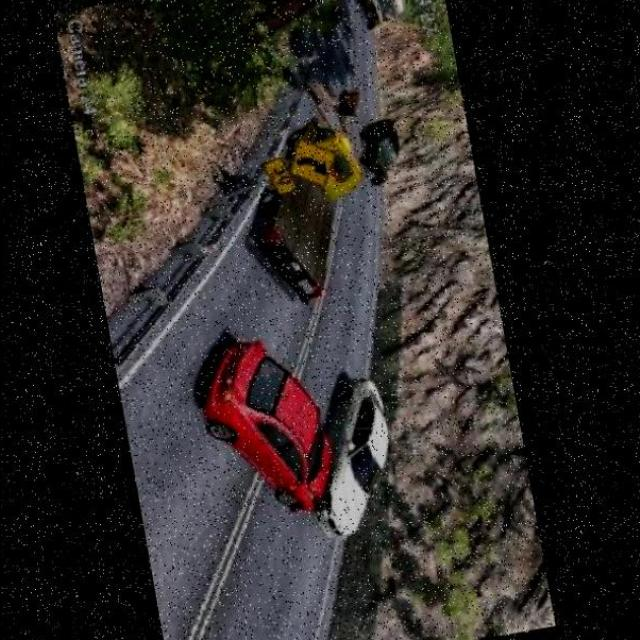accident: (267, 407, 402, 545)
